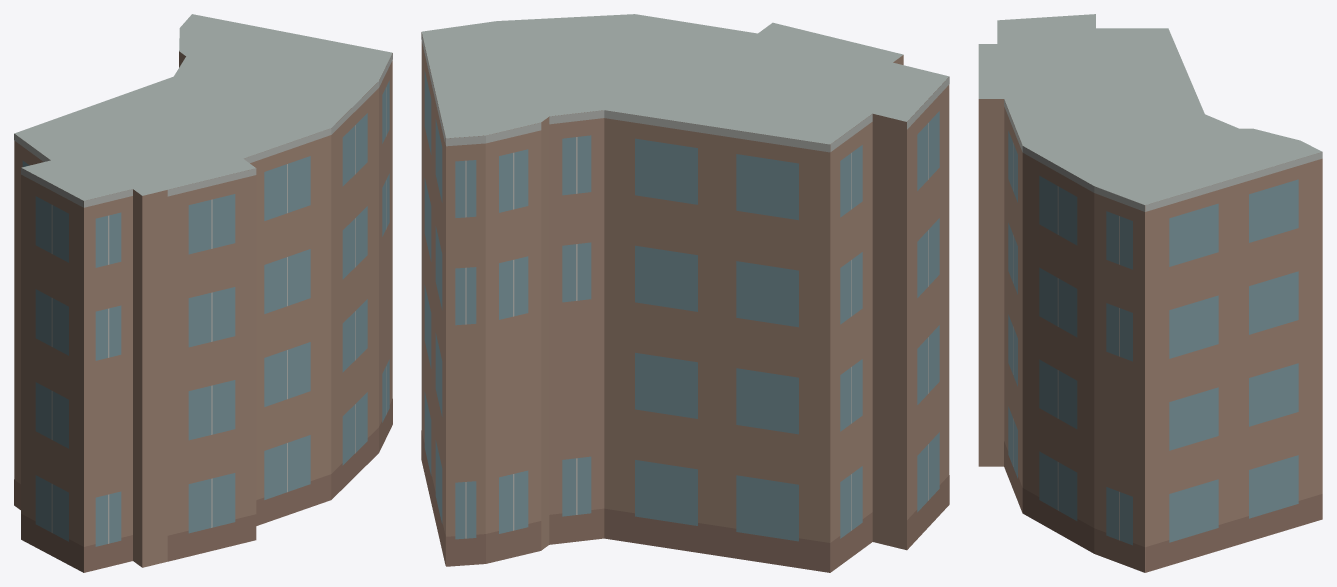
The model's file is survey-upis-32472708.glb.
3 views of the same model, side by side, from view 1: azimuth 30°, elevation 25°; view 2: azimuth 150°, elevation 25°; view 3: azimuth 270°, elevation 25° (orthographic). The views are drawn at different scales.
Visible parts, largest first — view 1: survey-upis-32472708.tmp; view 2: survey-upis-32472708.tmp; view 3: survey-upis-32472708.tmp.
Boxes of the visible parts, x1,y1,x2,y2 form: survey-upis-32472708.tmp: [14, 14, 392, 572]; survey-upis-32472708.tmp: [421, 14, 949, 572]; survey-upis-32472708.tmp: [978, 14, 1322, 572].
Size of the model in its own units: 14.74 by 13.2 by 11.2.
